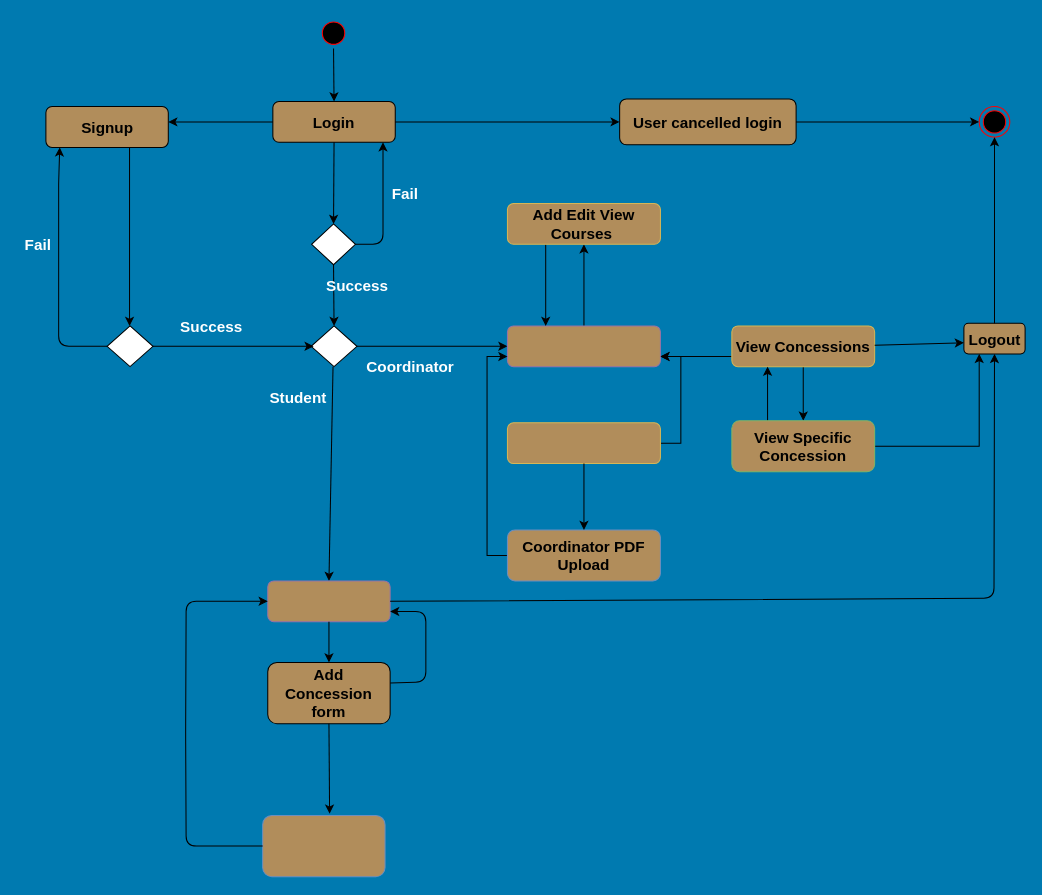
The diagram is 1042 pixels wide and 895 high, and some of its shapes have lost their labels. Here are the shapes that lost their labels. From the top down, the centre of each, then its label:
the point at 583,346: Coordinator Menu
the point at 583,443: Coordinator Upload
the point at 328,601: Student Menu
the point at 323,845: Submit Concession Form
